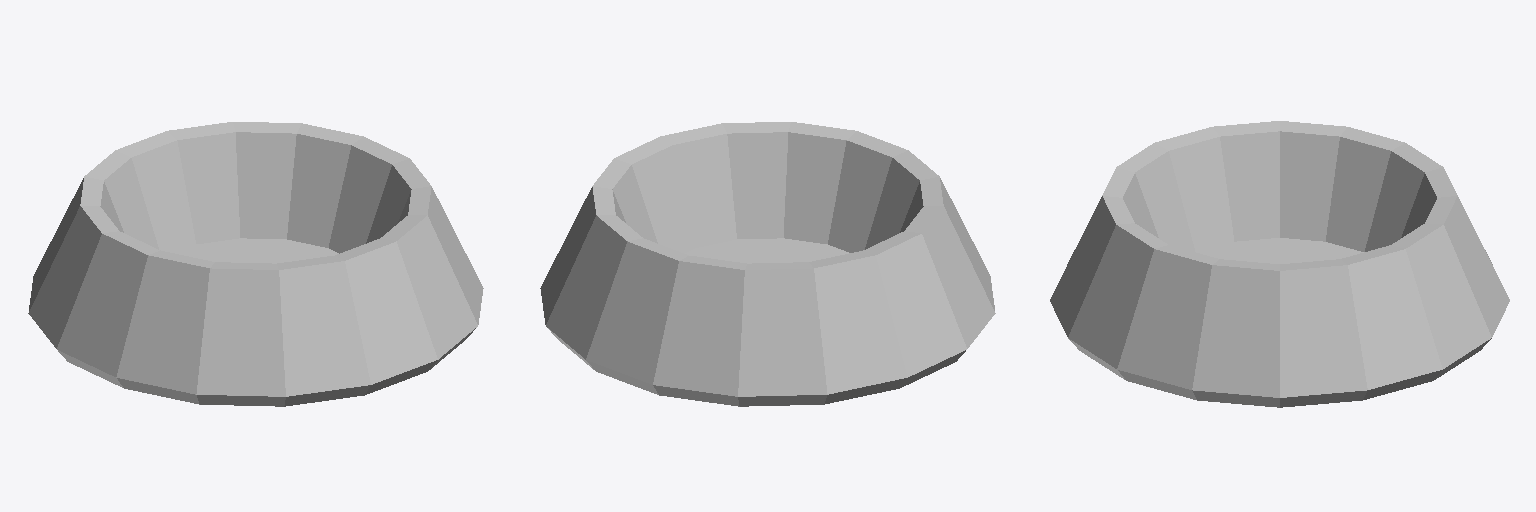
The model's file is Bol_de_Comida_LLevar.obj.
3 views of the same model, side by side, from view 1: azimuth 30°, elevation 25°; view 2: azimuth 150°, elevation 25°; view 3: azimuth 270°, elevation 25° (orthographic).
Parts seen in each view (by area): view 1: subtool002; view 2: subtool002; view 3: subtool002.
Part boxes in pixels (x1,y1,x2,y2): subtool002: (28, 122, 483, 406); subtool002: (540, 122, 995, 406); subtool002: (1050, 121, 1509, 407).
Bounding box in the file's own units: 46.77 × 13.47 × 46.77.